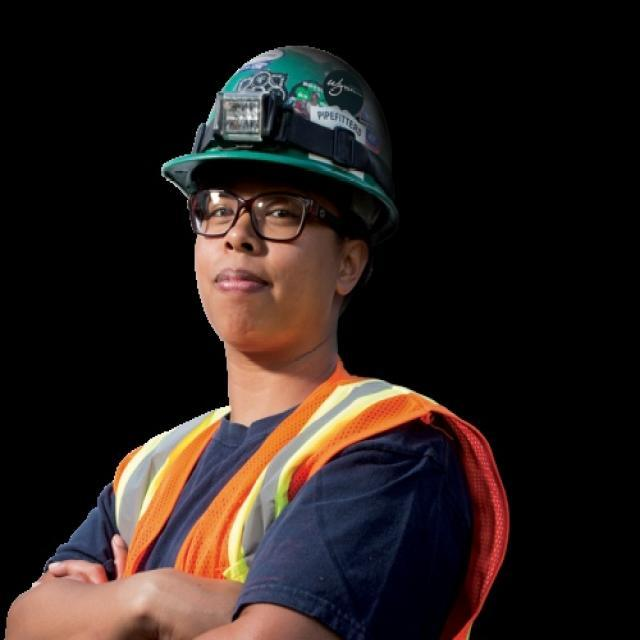reflective_jacket: (105, 363, 517, 636)
safety_helmet: (160, 42, 411, 214)
